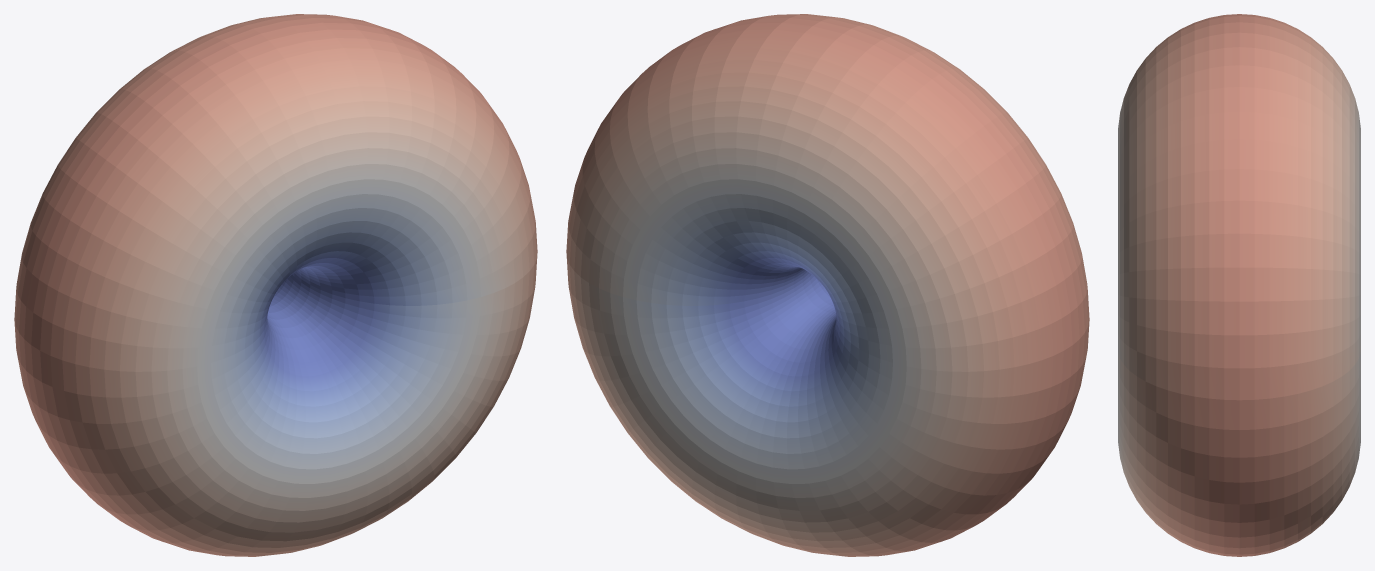
3 renders of one model, left to right at view 1: azimuth 30°, elevation 25°; view 2: azimuth 150°, elevation 25°; view 3: azimuth 270°, elevation 25°, orthographic. The views are drawn at different scales.
Visible parts, largest first — view 1: world; view 2: world; view 3: world.
Part boxes in pixels (box(x1,y1,x2,y2)): world: box(14, 14, 537, 556); world: box(566, 14, 1089, 556); world: box(1118, 14, 1360, 556).
Bounding box in the file's own units: 21.73 × 21.69 × 9.71.
